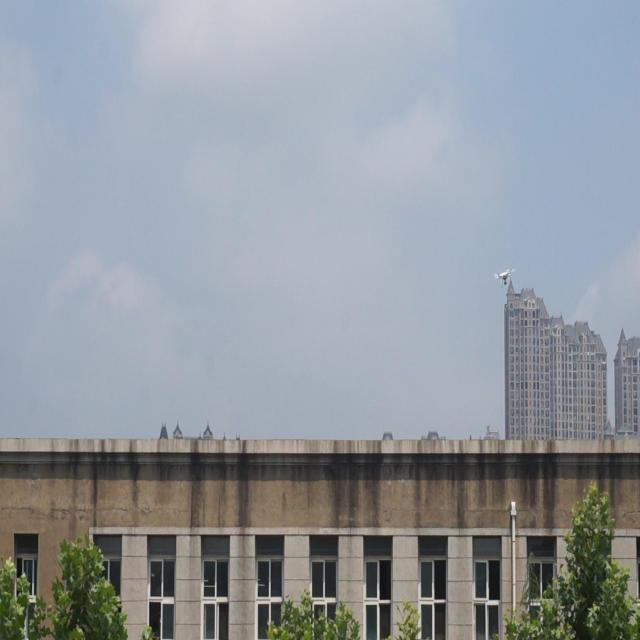UAV: (494, 268, 515, 287)
